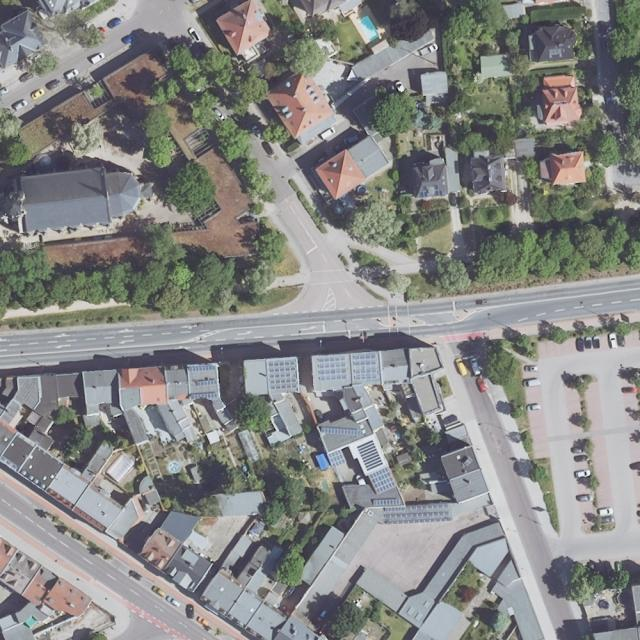PV: (383, 504, 452, 525), (268, 361, 298, 390), (357, 440, 383, 471), (317, 356, 347, 381), (369, 468, 396, 495), (354, 353, 378, 380), (321, 426, 361, 436), (328, 448, 346, 468), (191, 391, 217, 400), (188, 364, 216, 372), (373, 500, 400, 506), (194, 379, 217, 386)
ST: (550, 49, 563, 59), (435, 184, 444, 196), (420, 185, 427, 198)
